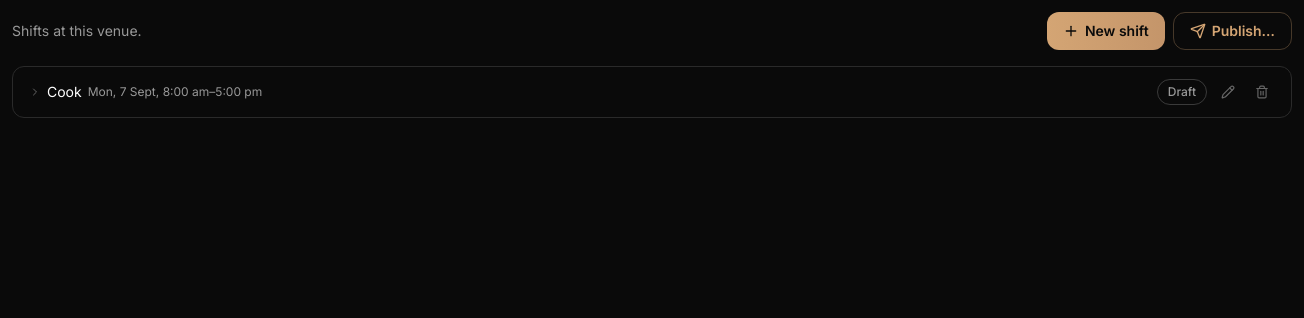
Test: ShiftsManager edit action › shows the server's refusal message and keeps the panel open on failure
Click the button named "Edit shift time": (1228, 92) [1215,79,1241,105]
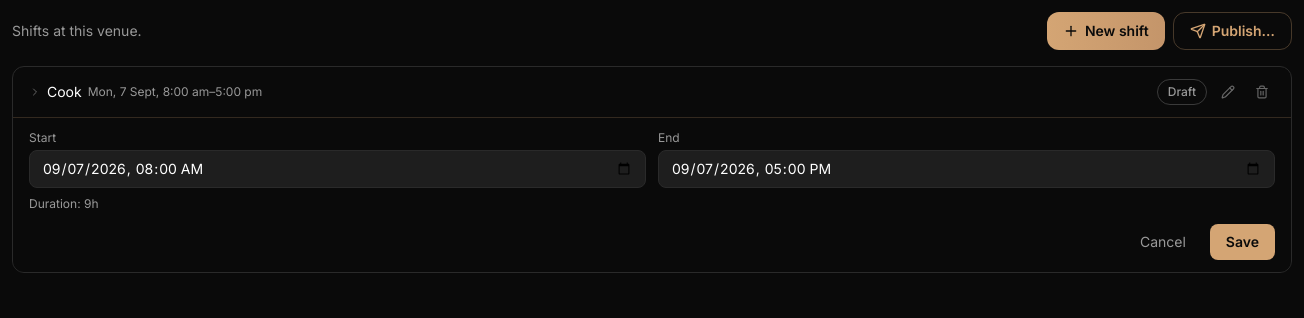
Click the button "Save": (1242, 242) [1210,224,1275,260]
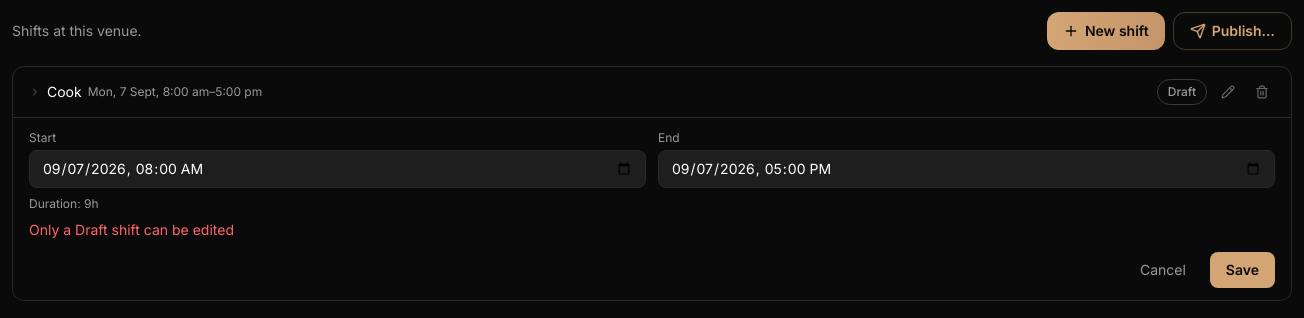
Check: the button "Save" is shown, box [1210,252,1275,288]
Check: the text "Only a Draft shift can be edited" is shown, box [29,221,234,238]
